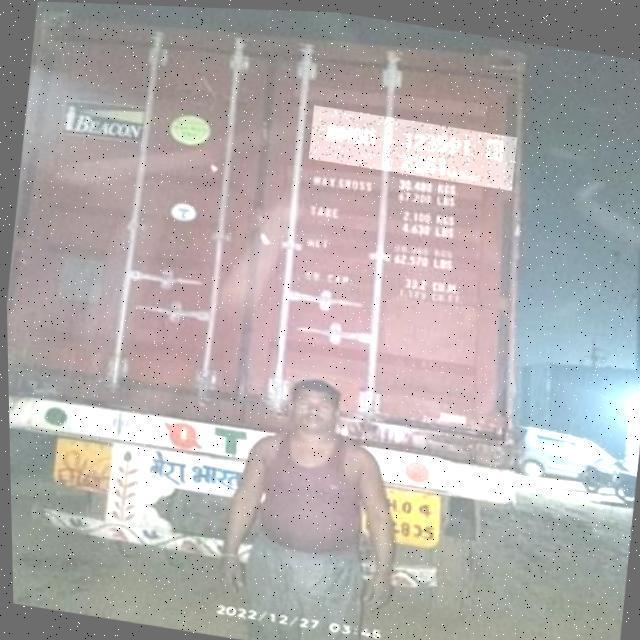container_number_h: (307, 103, 517, 187)
